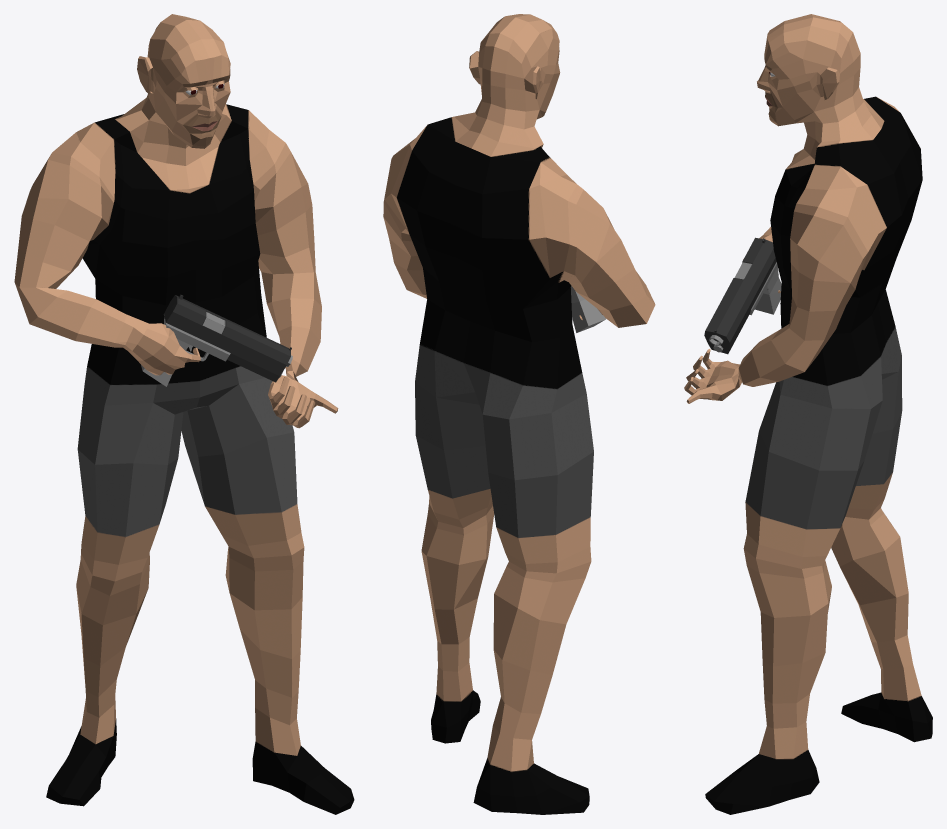
Rendered from PlayerIdle(32).obj.
3 views of the same model, side by side, from view 1: azimuth 30°, elevation 25°; view 2: azimuth 150°, elevation 25°; view 3: azimuth 270°, elevation 25° (orthographic). The views are drawn at different scales.
Parts seen in each view (by area): view 1: Plane002, Box003; view 2: Plane002, Box003; view 3: Plane002, Box003.
Part boxes in pixels (x1=…): Plane002: x1=14, y1=14, x2=354, y2=814; Box003: x1=141, y1=294, x2=292, y2=386; Plane002: x1=383, y1=14, x2=655, y2=814; Box003: x1=570, y1=286, x2=605, y2=332; Plane002: x1=684, y1=14, x2=932, y2=814; Box003: x1=704, y1=237, x2=781, y2=354.
Bounding box in the file's own units: 675 × 1808 × 551.
